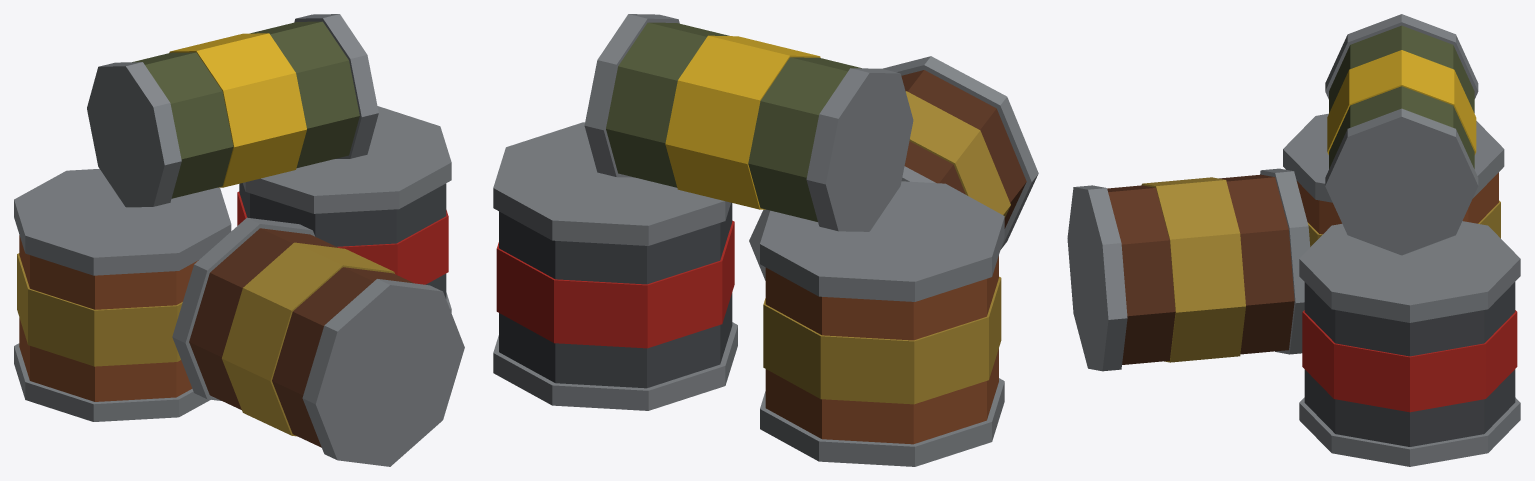
Rendered from item_canned_food.fbx.
The picture shows the model from 3 angles, left to right: view 1: azimuth 30°, elevation 25°; view 2: azimuth 150°, elevation 25°; view 3: azimuth 270°, elevation 25°; orthographic projection. The views are drawn at different scales.
Parts seen in each view (by area): view 1: item_canned_food; view 2: item_canned_food; view 3: item_canned_food.
Part boxes in pixels (<box>): item_canned_food: <box>14,14,464,466</box>; item_canned_food: <box>493,14,1038,466</box>; item_canned_food: <box>1067,14,1520,466</box>.
Bounding box in the file's own units: 0.2965 × 0.2072 × 0.2795.
